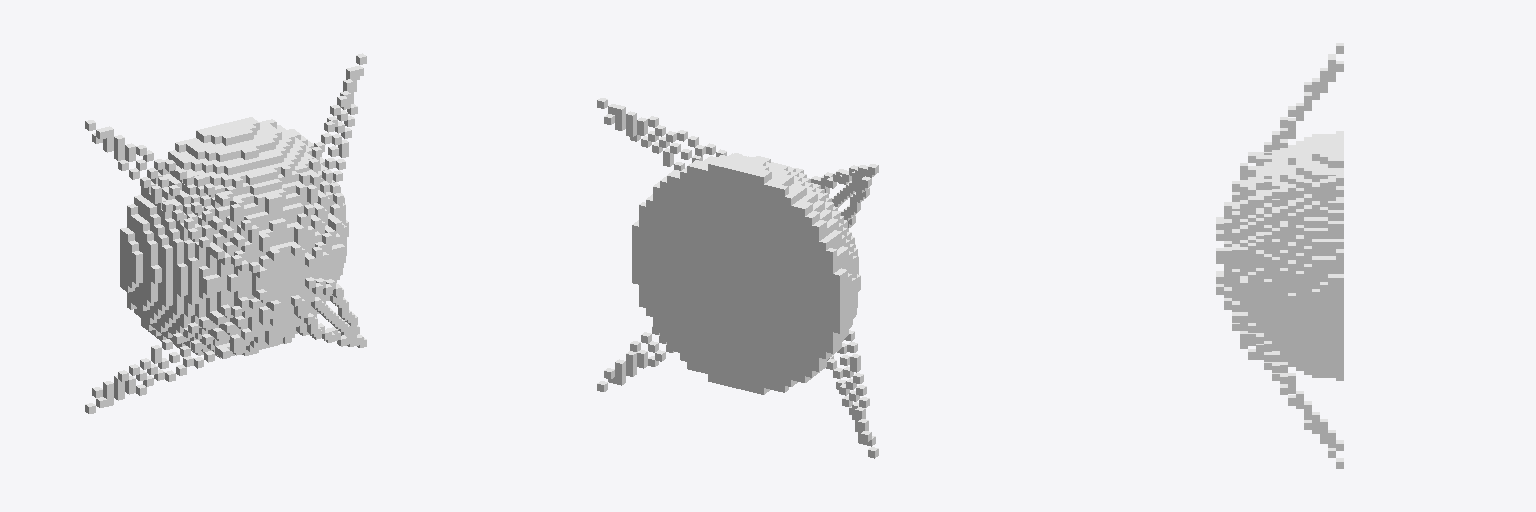
File: Destroyer.obj
3 renders of one model, left to right at view 1: azimuth 30°, elevation 25°; view 2: azimuth 150°, elevation 25°; view 3: azimuth 270°, elevation 25°, orthographic.
Parts seen in each view (by area): view 1: Destroyer; view 2: Destroyer; view 3: Destroyer.
Boxes of the visible parts, x1=… form: Destroyer: x1=85, y1=53, x2=366, y2=413; Destroyer: x1=597, y1=98, x2=878, y2=458; Destroyer: x1=1216, y1=43, x2=1343, y2=468.
Size of the model in its own units: 10 by 10 by 4.